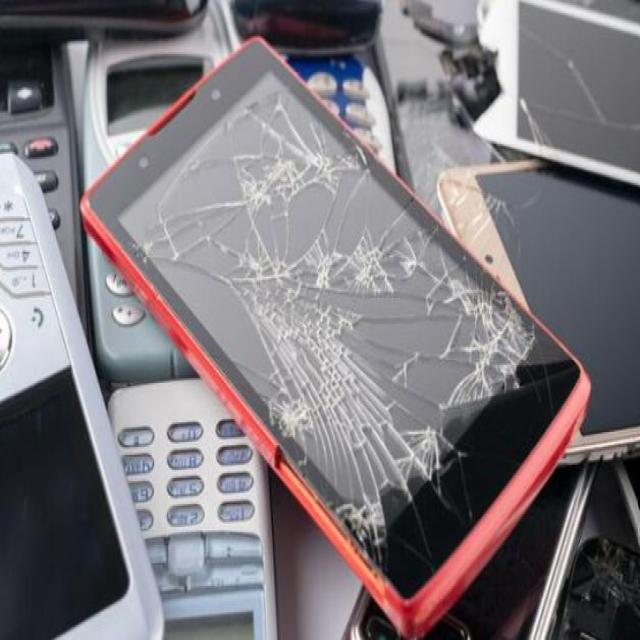electronic: (61, 47, 608, 634), (394, 114, 640, 471), (2, 160, 166, 640)
